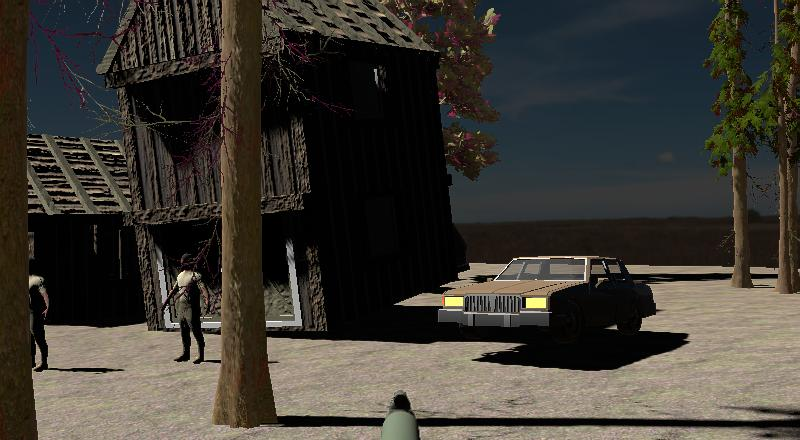House: (94, 0, 467, 329)
Human: (162, 248, 210, 366), (28, 256, 53, 373), (29, 256, 52, 372)
car: (444, 252, 660, 346)
